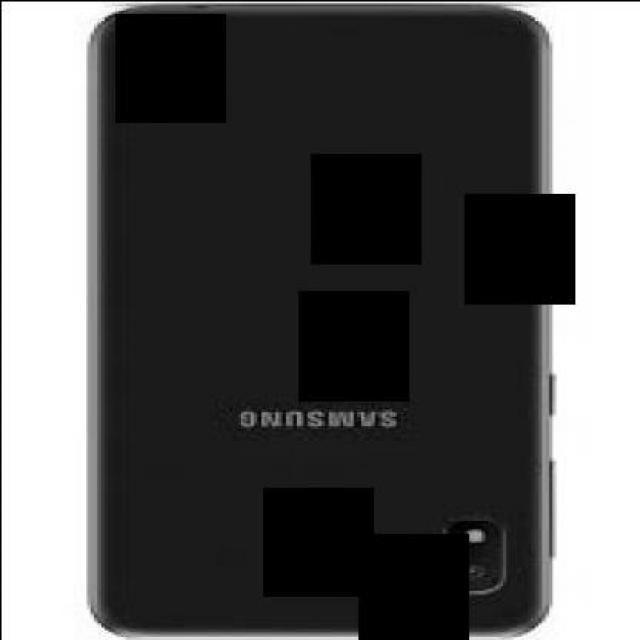fake: (86, 4, 552, 638)
